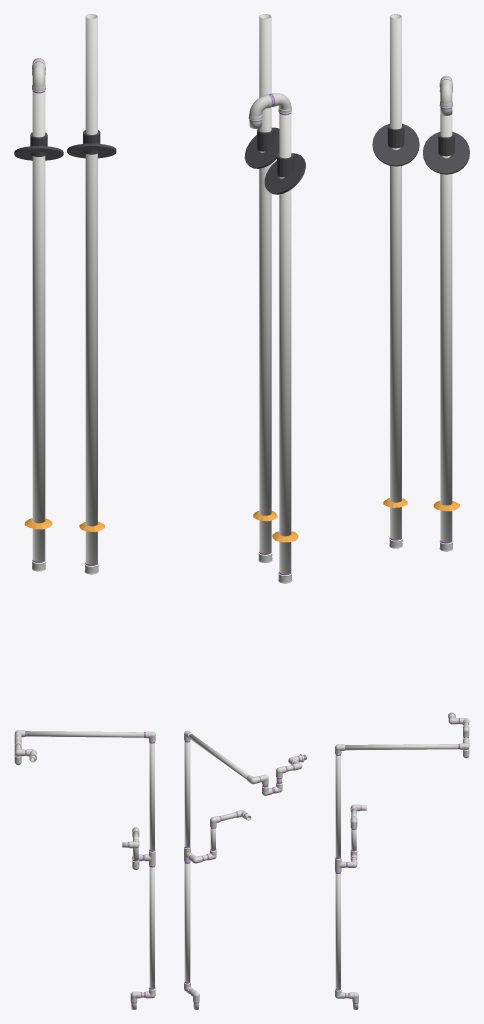
File: slab_pipes_hvac__hvac-split_furnace_92+split_furnace_cond96+split_furnace_98.glb
The picture shows the model from 3 angles, left to right: view 1: azimuth 90°, elevation 25°; view 2: azimuth 210°, elevation 25°; view 3: azimuth 270°, elevation 25°; orthographic projection. The views are drawn at different scales.
Parts seen in each view (by area): view 1: vent_hvac_cond96_exhaust, vent_hvac_cond96_intake, pipe_hvac_condensate_primary_90, vent_hvac_cond96_intake_flashing, vent_hvac_cond96_exhaust_flashing, pipe_hvac_condensate_furnace; view 2: vent_hvac_cond96_intake, vent_hvac_cond96_exhaust, pipe_hvac_condensate_primary_90, vent_hvac_cond96_intake_flashing, vent_hvac_cond96_exhaust_flashing, pipe_hvac_condensate_furnace, vent_hvac_cond96_intake_boot, vent_hvac_cond96_exhaust_boot; view 3: vent_hvac_cond96_exhaust, vent_hvac_cond96_intake, pipe_hvac_condensate_primary_90, vent_hvac_cond96_intake_flashing, vent_hvac_cond96_exhaust_flashing, pipe_hvac_condensate_furnace, vent_hvac_cond96_exhaust_boot, vent_hvac_cond96_intake_boot.
Part boxes in pixels (left/top/right/bottom): vent_hvac_cond96_exhaust: left=85, top=14, right=97, bottom=566; vent_hvac_cond96_intake: left=32, top=58, right=45, bottom=561; pipe_hvac_condensate_primary_90: left=14, top=730, right=155, bottom=1009; vent_hvac_cond96_intake_flashing: left=14, top=146, right=63, bottom=160; vent_hvac_cond96_exhaust_flashing: left=67, top=143, right=116, bottom=158; pipe_hvac_condensate_furnace: left=122, top=827, right=143, bottom=869; vent_hvac_cond96_intake: left=248, top=93, right=291, bottom=574; vent_hvac_cond96_exhaust: left=259, top=14, right=271, bottom=553; pipe_hvac_condensate_primary_90: left=184, top=730, right=302, bottom=1009; vent_hvac_cond96_intake_flashing: left=264, top=153, right=305, bottom=194; vent_hvac_cond96_exhaust_flashing: left=244, top=127, right=279, bottom=168; pipe_hvac_condensate_furnace: left=189, top=810, right=251, bottom=863; vent_hvac_cond96_intake_boot: left=277, top=153, right=293, bottom=177; vent_hvac_cond96_exhaust_boot: left=257, top=128, right=273, bottom=151; vent_hvac_cond96_exhaust: left=390, top=14, right=401, bottom=539; vent_hvac_cond96_intake: left=439, top=75, right=453, bottom=542; pipe_hvac_condensate_primary_90: left=335, top=715, right=469, bottom=1009; vent_hvac_cond96_intake_flashing: left=423, top=131, right=469, bottom=174; vent_hvac_cond96_exhaust_flashing: left=372, top=123, right=419, bottom=166; pipe_hvac_condensate_furnace: left=345, top=804, right=366, bottom=867; vent_hvac_cond96_exhaust_boot: left=387, top=124, right=404, bottom=148; vent_hvac_cond96_intake_boot: left=438, top=133, right=454, bottom=156.
Size of the model in its own units: 0.3894 by 5.44 by 0.687.
